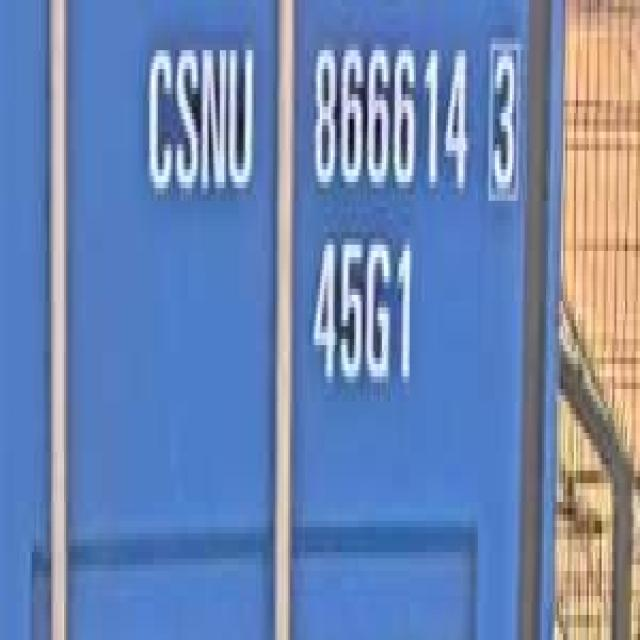dv: (484, 25, 521, 201)
owner: (137, 25, 258, 207)
serial: (307, 25, 472, 207)
size: (307, 220, 418, 402)
